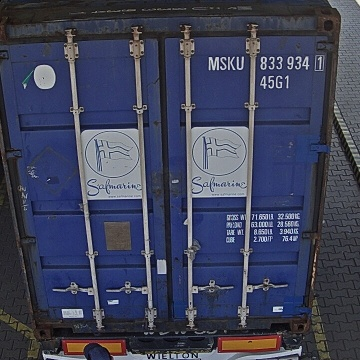serial_id: (209, 55, 324, 70)
